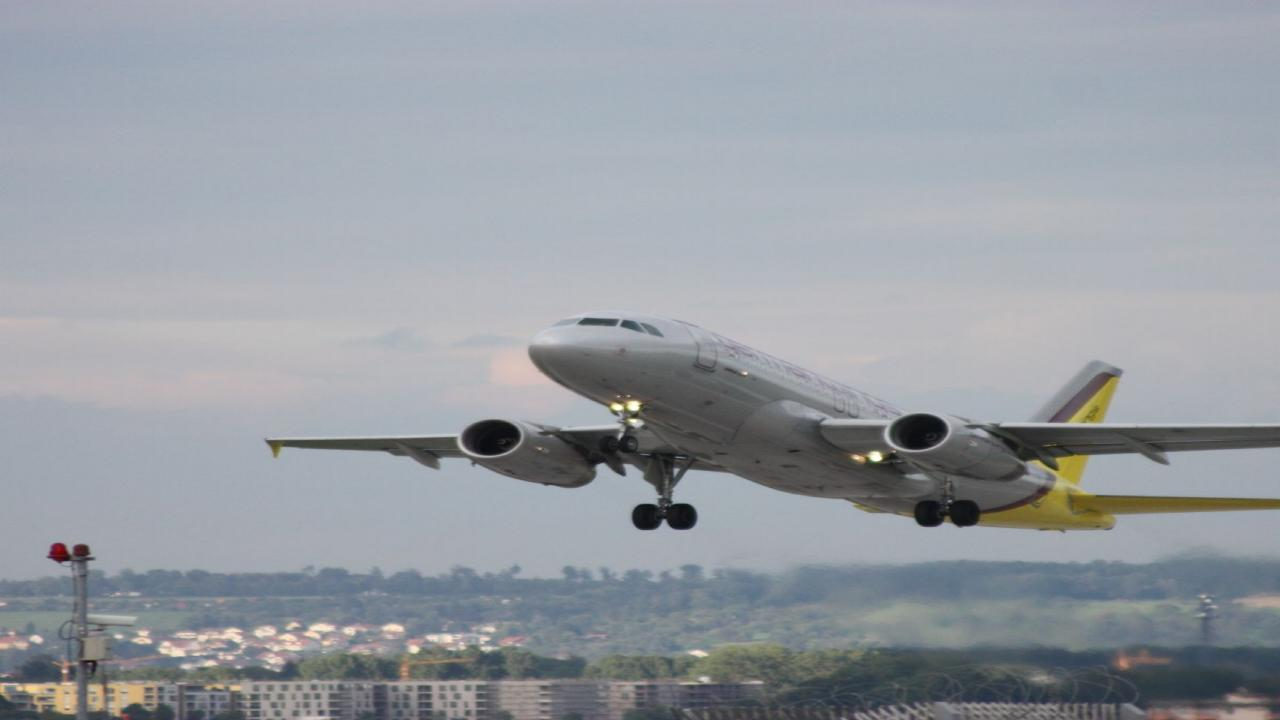Airplane: (239, 297, 1280, 547)
